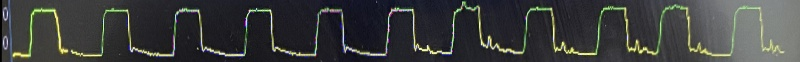hydrop_pressure: (410, 1, 798, 62)
normal_pressure: (20, 2, 402, 62)
